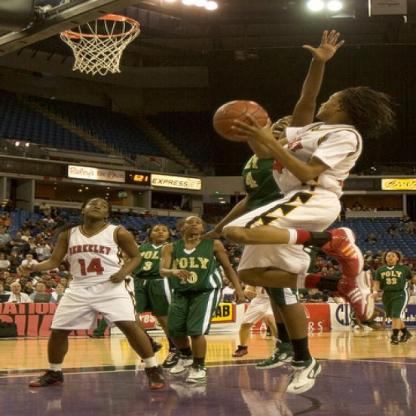basketball: (212, 100, 270, 142)
